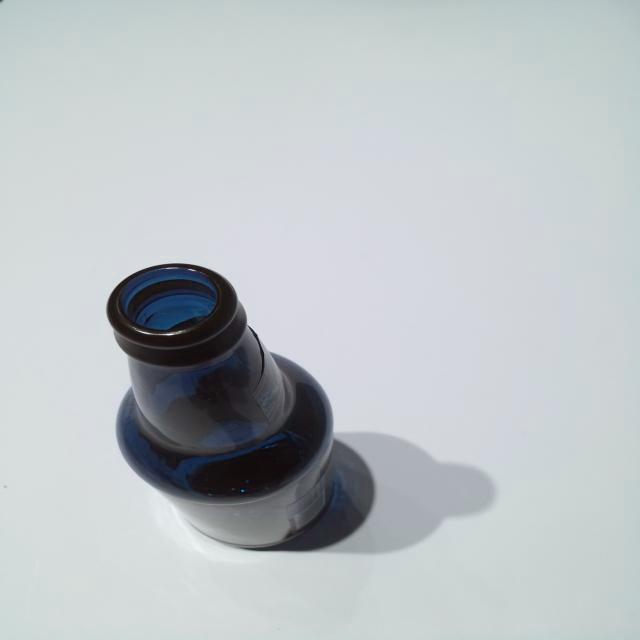glass: (87, 264, 377, 575)
